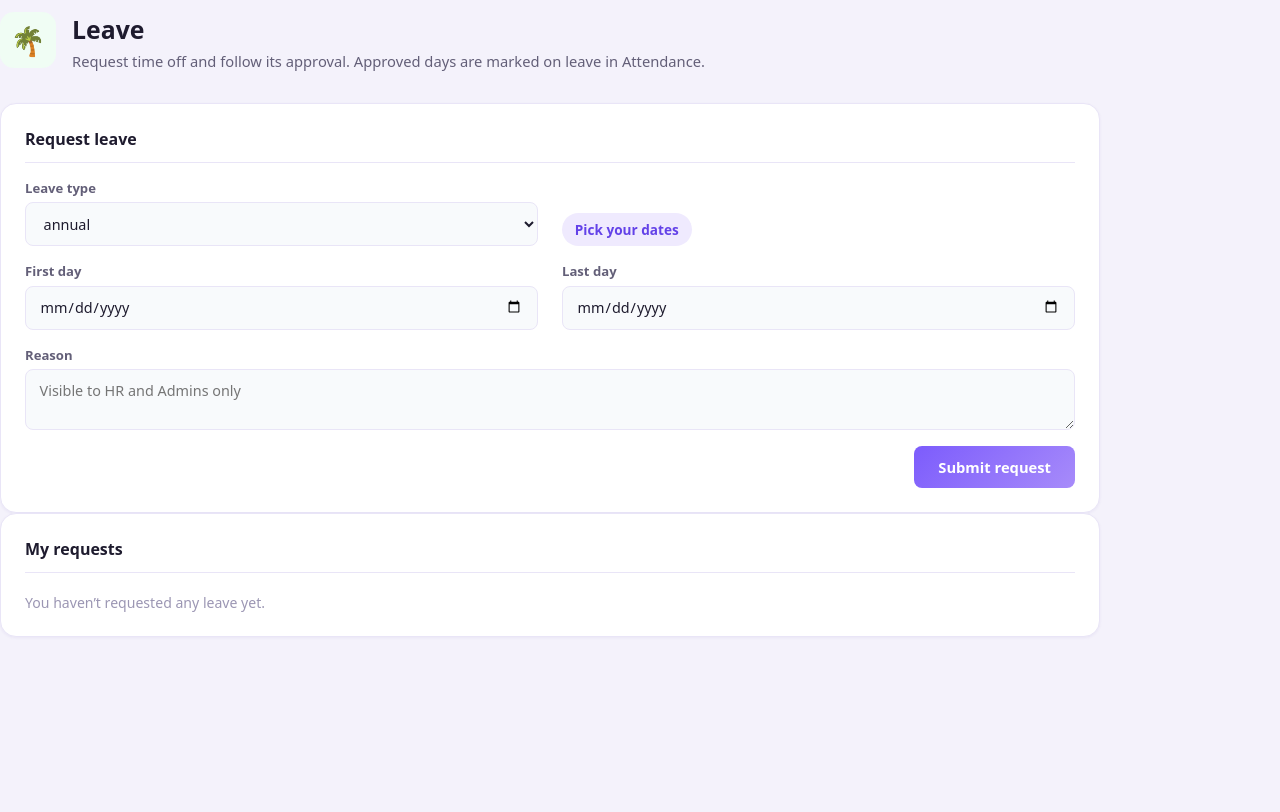
Test: reversed dates block submission client-side
Type "2026-12-09" into the date field with id "lv-start". click: point(282, 308)
box: [25, 286, 538, 330]
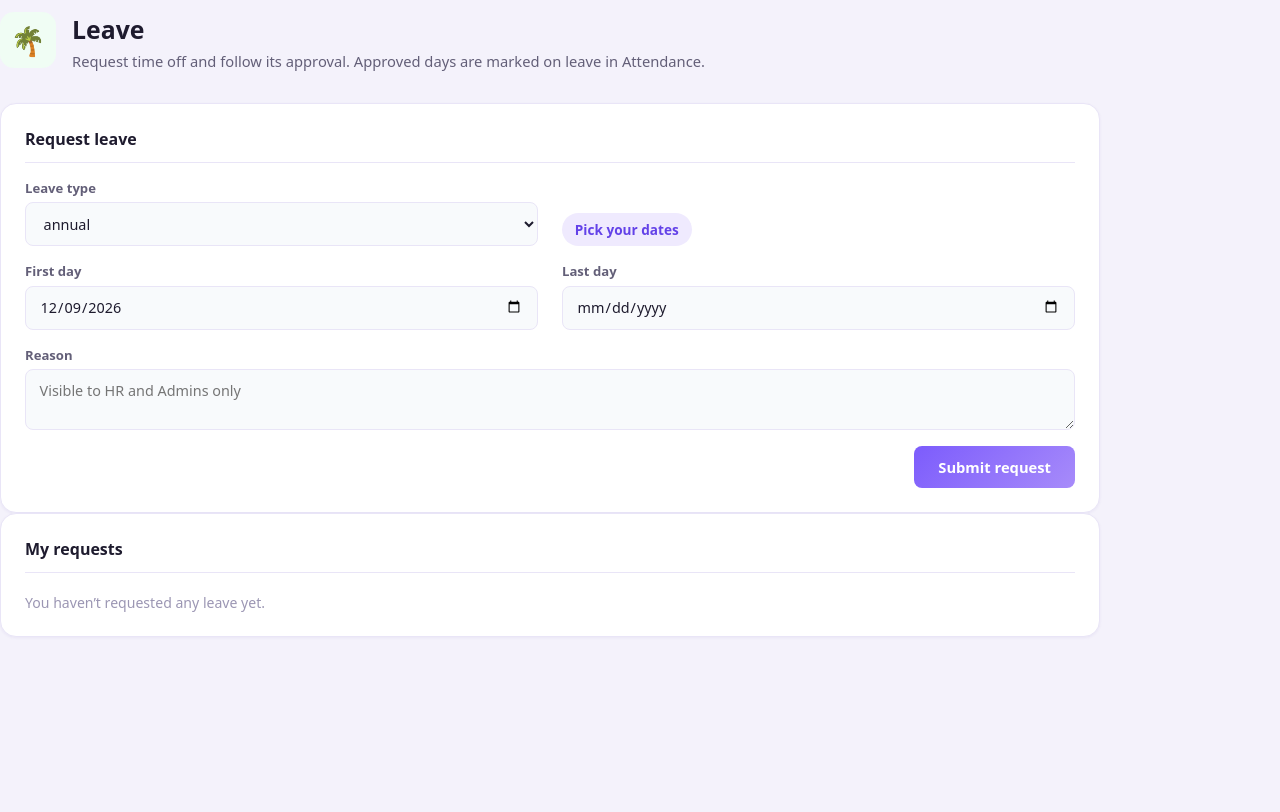
Type "2026-12-07" into the date field with id "lv-end". click: point(818, 308)
box: [562, 286, 1075, 330]
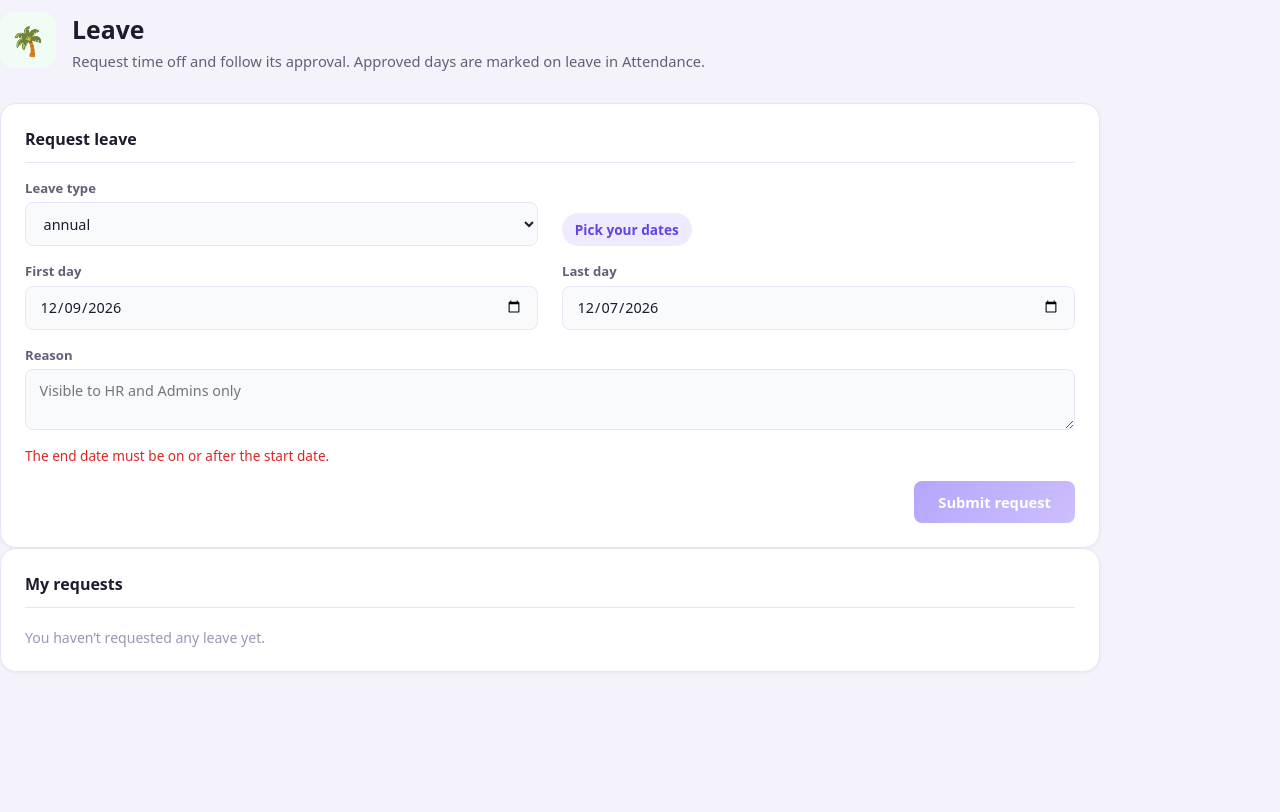
expect the text "end date must be on or after" is shown: met, box [25, 446, 329, 465]
expect the submit button is disabled: met, box [914, 481, 1075, 523]
